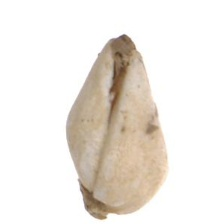L1: (107, 33, 140, 90), (78, 184, 119, 219)
L2: (65, 34, 168, 219)
